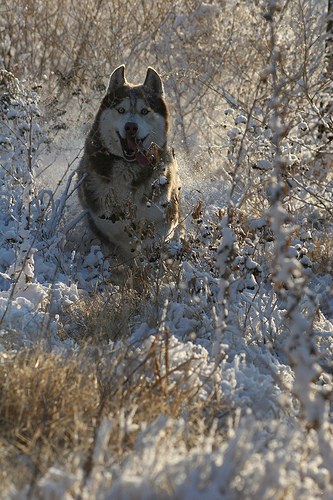dog: (76, 62, 179, 255)
